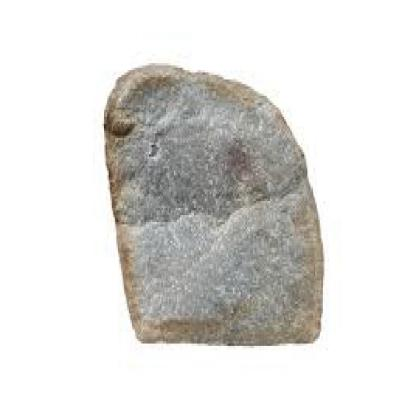Metamorphic_Quartize: (92, 47, 352, 362)
